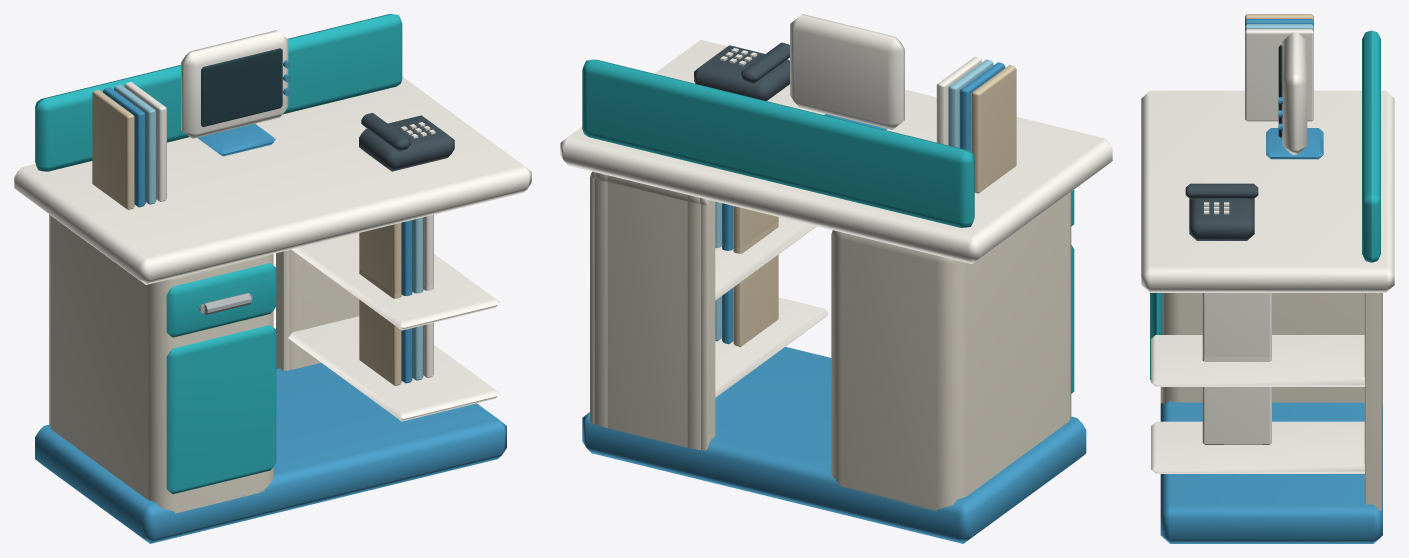
The model's file is TeamDesk_standard.glb.
The picture shows the model from 3 angles, left to right: view 1: azimuth 30°, elevation 25°; view 2: azimuth 150°, elevation 25°; view 3: azimuth 270°, elevation 25°; orthographic projection. The views are drawn at different scales.
Visible parts, largest first — view 1: Static_white, Static_ivory, Static_blue, Door_Desk_door, Static_teal, Static_linen, Drawer_1, Static_screen, Static_dark, Static_lightblue; view 2: Static_ivory, Static_white, Static_blue, Static_teal, Static_linen, Static_dark, Static_lightblue; view 3: Static_white, Static_blue, Static_ivory, Static_teal, Static_dark, Door_Desk_door, Static_screen, Static_lightblue, Static_linen.
Boxes of the visible parts, x1,y1,x2,y2 form: Static_white: [14, 30, 531, 421]; Static_ivory: [49, 214, 359, 513]; Static_blue: [35, 60, 506, 543]; Door_Desk_door: [166, 325, 276, 494]; Static_teal: [35, 14, 402, 171]; Static_linen: [92, 89, 401, 386]; Drawer_1: [166, 263, 276, 337]; Static_screen: [201, 48, 282, 126]; Static_dark: [359, 113, 454, 171]; Static_lightblue: [114, 84, 423, 380]; Static_ivory: [590, 171, 1071, 511]; Static_white: [560, 14, 1112, 397]; Static_blue: [582, 62, 1086, 543]; Static_teal: [582, 59, 974, 227]; Static_linen: [733, 65, 1016, 347]; Static_dark: [694, 42, 789, 100]; Static_lightblue: [715, 59, 993, 341]; Static_white: [1141, 29, 1394, 473]; Static_blue: [1160, 19, 1382, 543]; Static_ivory: [1160, 293, 1382, 510]; Static_teal: [1362, 30, 1380, 262]; Static_dark: [1185, 183, 1258, 240]; Door_Desk_door: [1150, 293, 1162, 380]; Static_screen: [1278, 45, 1282, 137]; Static_lightblue: [1245, 24, 1313, 30]; Static_linen: [1245, 14, 1313, 20].
Size of the model in its own units: 1.13 by 1.15 by 0.66.
